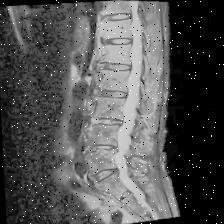disc: (96, 56, 136, 73), (96, 86, 129, 102), (100, 9, 135, 24), (102, 34, 134, 48)
hdisc: (88, 113, 124, 128), (92, 168, 124, 184), (88, 143, 124, 152)
